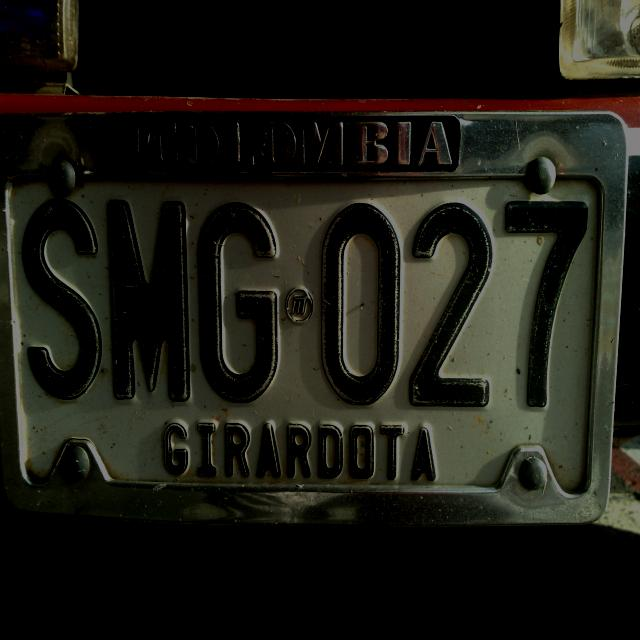placa: (4, 167, 610, 507)
